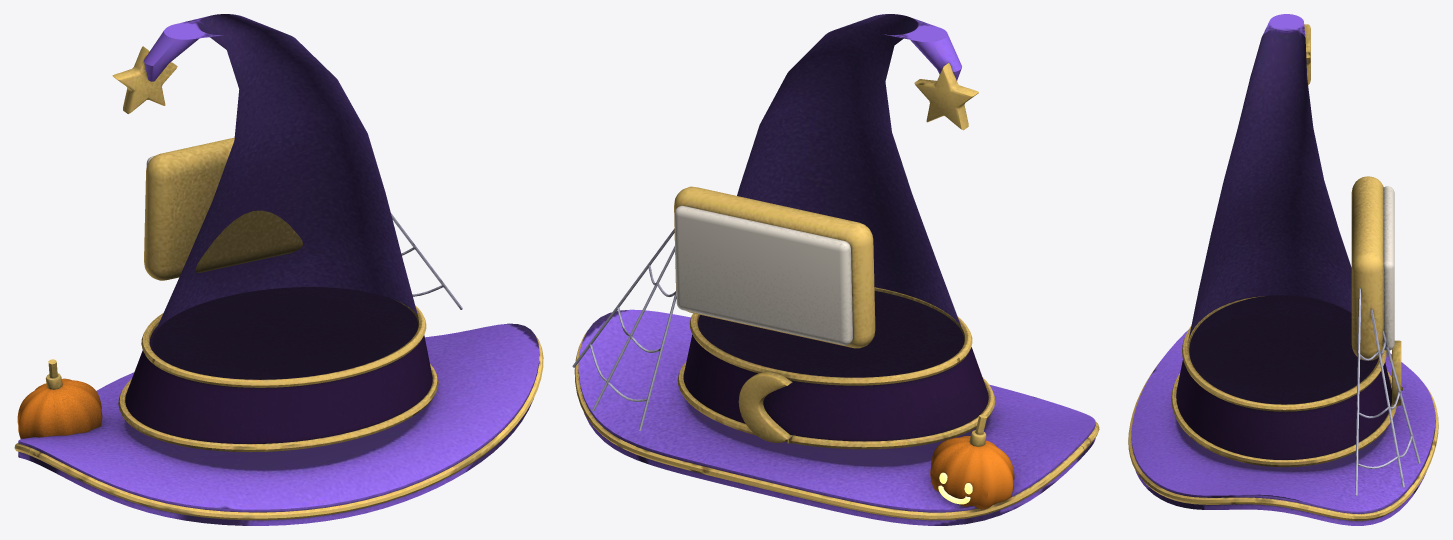
The picture shows the model from 3 angles, left to right: view 1: azimuth 30°, elevation 25°; view 2: azimuth 150°, elevation 25°; view 3: azimuth 270°, elevation 25°; orthographic projection. The views are drawn at different scales.
Parts seen in each view (by area): view 1: Witch_purple_lacquer, Night_plum_satin_band, Moon_gold, Pumpkin_orange_lacquer; view 2: Witch_purple_lacquer, Night_plum_satin_band, Moon_gold, Blank_ghost_ivory_enamel, Pumpkin_orange_lacquer, Silvery_silk; view 3: Witch_purple_lacquer, Night_plum_satin_band, Moon_gold, Silvery_silk, Blank_ghost_ivory_enamel.
Part boxes in pixels (<box>): Witch_purple_lacquer: <box>18,14,539,525</box>; Night_plum_satin_band: <box>125,287,432,443</box>; Moon_gold: <box>14,46,543,520</box>; Pumpkin_orange_lacquer: <box>17,378,102,438</box>; Witch_purple_lacquer: <box>578,14,1095,525</box>; Night_plum_satin_band: <box>683,291,988,441</box>; Moon_gold: <box>574,63,1099,520</box>; Blank_ghost_ivory_enamel: <box>674,205,852,345</box>; Pumpkin_orange_lacquer: <box>930,436,1014,509</box>; Silvery_silk: <box>572,228,676,430</box>; Witch_purple_lacquer: <box>1131,14,1435,525</box>; Night_plum_satin_band: <box>1176,295,1391,459</box>; Moon_gold: <box>1128,24,1438,520</box>; Silvery_silk: <box>1355,287,1420,495</box>; Blank_ghost_ivory_enamel: <box>1383,186,1394,350</box>.
Size of the model in its own units: 1.6 by 1.35 by 0.9814.
Materials: 7 (6 with a texture image).
